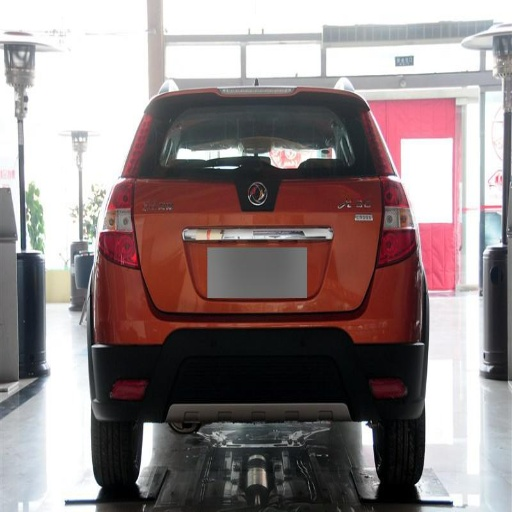back_bumper: (86, 244, 425, 451)
tailgate: (130, 178, 256, 310), (324, 174, 383, 304)
trunk: (139, 180, 380, 311)
